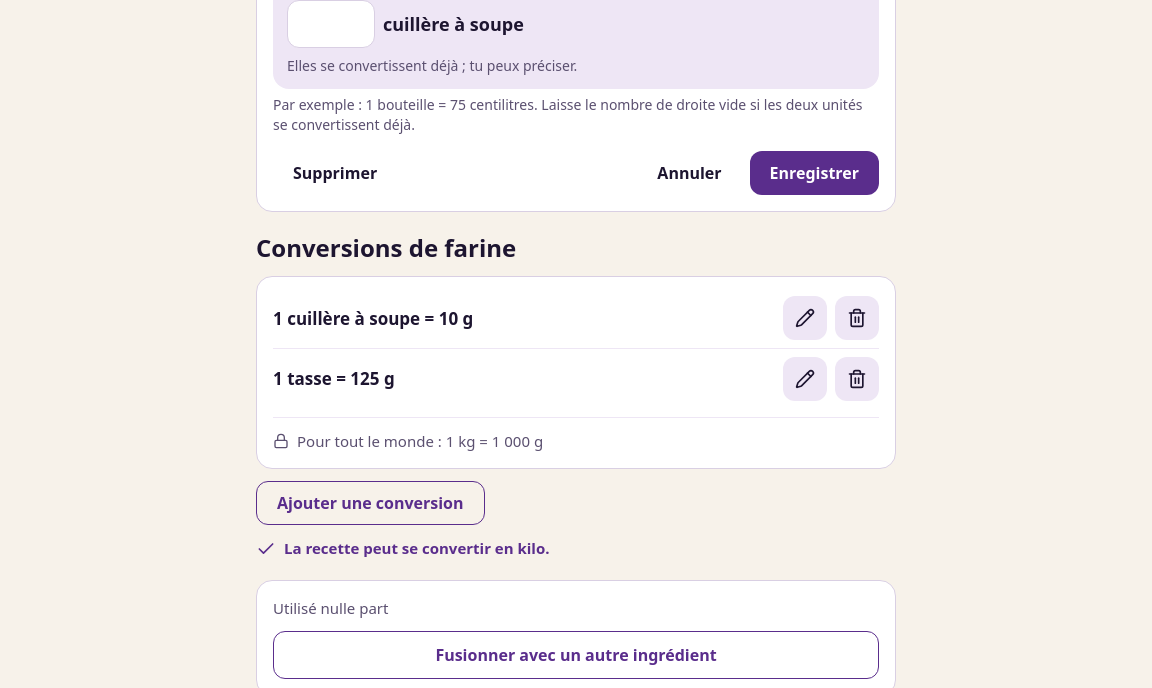
Scenario: Conversions de l’ingrédient › ajoute une conversion : « 1 [unité d’achat] = ? [unité des recettes] », le nombre à dire, un seul POST
(page scrolled)
Click the button "Ajouter une conversion": (370, 503) x1=256 y1=481 x2=484 y2=525
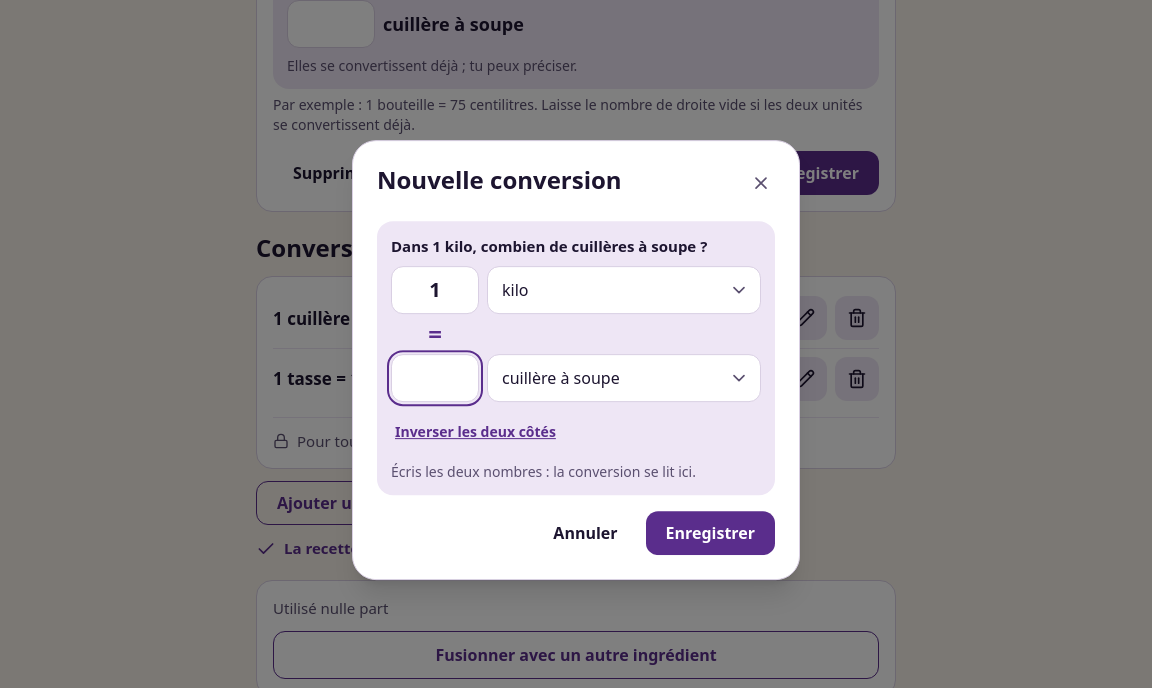
Now the dialog is shown, box x1=352 y1=140 x2=800 y2=580
Now the dialog shows "Nouvelle conversion", box x1=377 y1=163 x2=622 y2=196
Now the dropdown named "Unité de départ" shows "kilo", box x1=487 y1=266 x2=761 y2=314
In the field named "Quantité d": (435, 378) x1=391 y1=354 x2=479 y2=402, type "100"
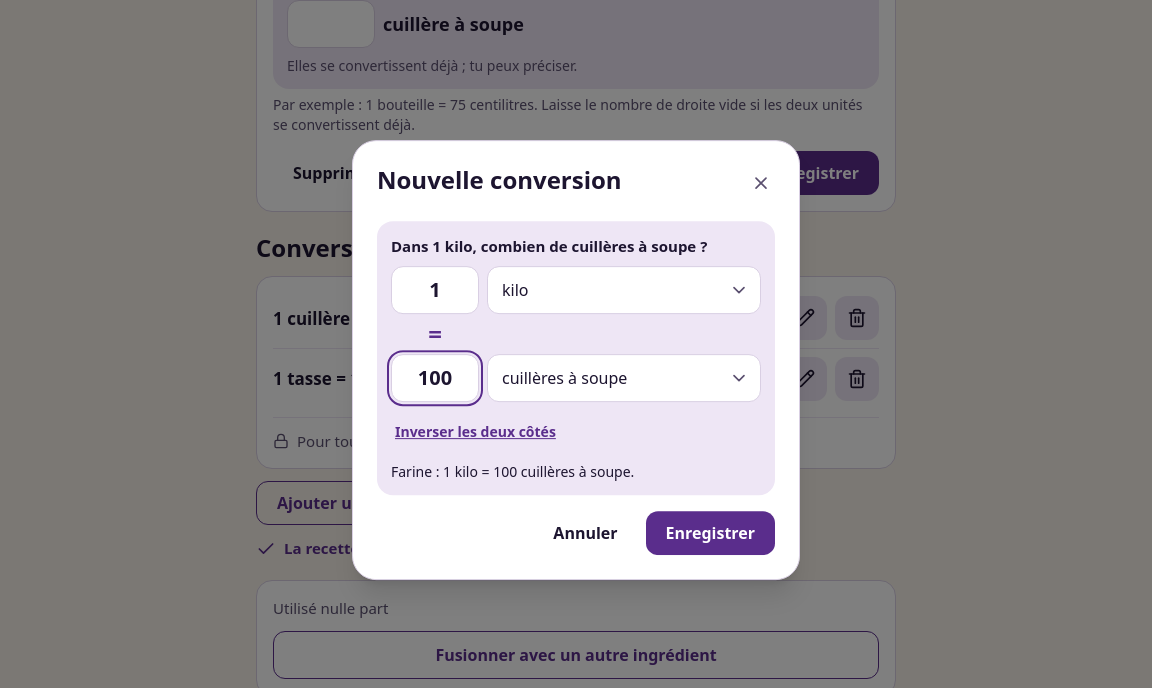
Now the element showing "Farine : 1 kilo = 100 cuillères à soupe." is shown, box x1=391 y1=462 x2=634 y2=481
Submit the form, box x1=377 y1=221 x2=775 y2=555
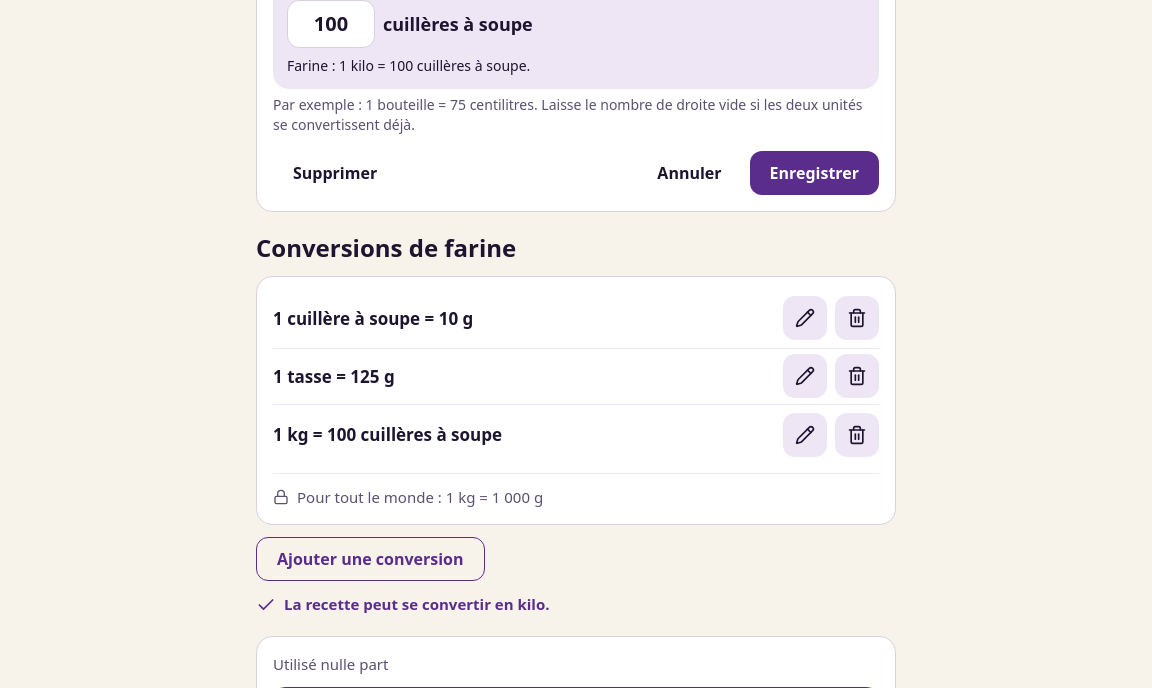
Now the dialog is gone
